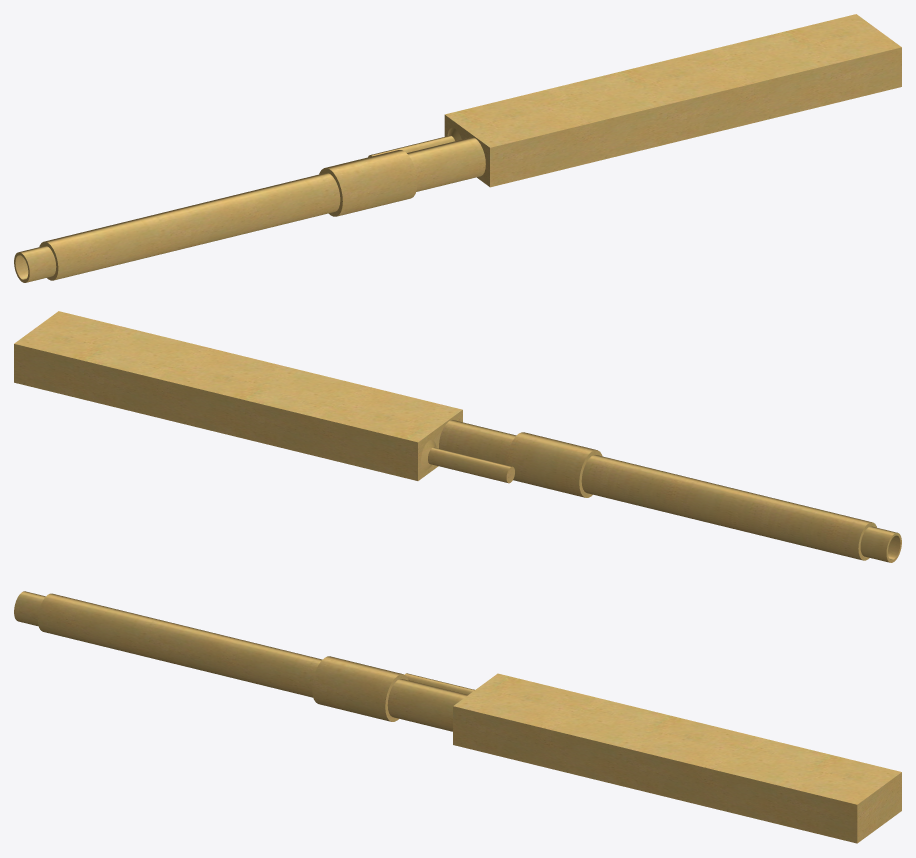
The model's file is m1a2cannon.obj.
The picture shows the model from 3 angles, top to bottom: view 1: azimuth 30°, elevation 25°; view 2: azimuth 150°, elevation 25°; view 3: azimuth 330°, elevation 25°; orthographic projection.
Parts seen in each view (by area): view 1: Mesh1 Component_1_1 Model; view 2: Mesh1 Component_1_1 Model; view 3: Mesh1 Component_1_1 Model.
Part boxes in pixels (left/top/right/bottom): Mesh1 Component_1_1 Model: left=14, top=14, right=901, bottom=282; Mesh1 Component_1_1 Model: left=14, top=311, right=901, bottom=562; Mesh1 Component_1_1 Model: left=14, top=591, right=901, bottom=843.
Size of the model in its own units: 254 by 12.73 by 23.11.
